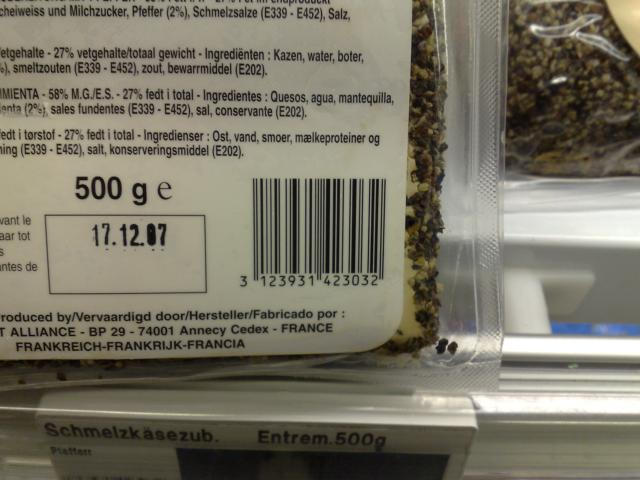Barkod: (249, 176, 386, 274)
